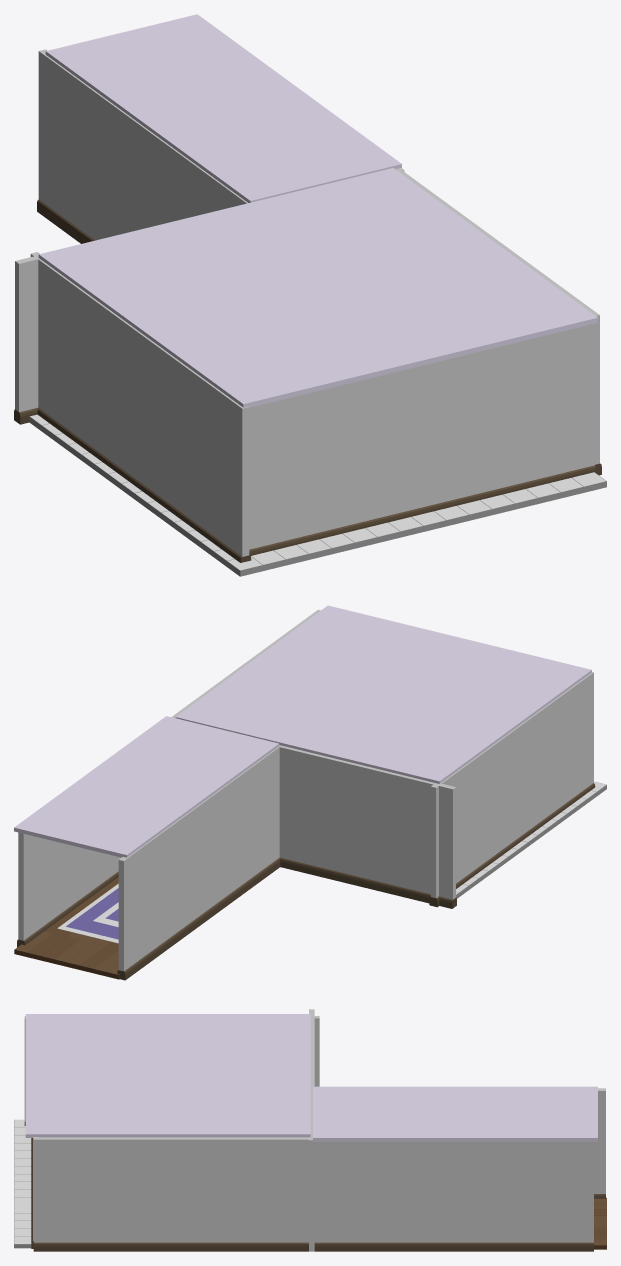
File: level03.glb
3 views of the same model, one above another, from view 1: azimuth 30°, elevation 25°; view 2: azimuth 150°, elevation 25°; view 3: azimuth 270°, elevation 25° (orthographic). The views are drawn at different scales.
Parts seen in each view (by area): view 1: Cube, WallFloor1_05, WallFloor1_05__2_, Cube__1_, WallFloor1_05__4_, Floor_08__3_, WallFloor1_05__3_, Floor_08__1_, WallFloor1_05__1_, Floor_08__2_; view 2: Cube, WallFloor1_05__3_, WallFloor1_05__4_, Cube__1_, WallFloor1_05__2_, WallFloor1_05__1_, Floor, Catpet_03, Floor_08__3_, Floor_08__2_; view 3: WallFloor1_05__1_, Cube, Cube__1_, Floor_08__1_, WallFloor1_05__4_, Floor_08__3_, WallFloor2_08, Floor, WallFloor1_05__2_, WallFloor1_05__3_, WallFloor1_05.
Boxes of the visible parts, left/top/right/bottom form: Cube: left=38, top=168, right=597, bottom=407; WallFloor1_05: left=249, top=323, right=595, bottom=555; WallFloor1_05__2_: left=30, top=252, right=251, bottom=562; Cube__1_: left=45, top=14, right=401, bottom=202; WallFloor1_05__4_: left=37, top=49, right=248, bottom=243; Floor_08__3_: left=134, top=491, right=423, bottom=576; WallFloor1_05__3_: left=14, top=255, right=39, bottom=424; Floor_08__1_: left=411, top=472, right=606, bottom=531; WallFloor1_05__1_: left=395, top=168, right=601, bottom=475; Floor_08__2_: left=29, top=414, right=141, bottom=498; Cube: left=175, top=605, right=591, bottom=783; WallFloor1_05__3_: left=279, top=745, right=456, bottom=908; WallFloor1_05__4_: left=117, top=747, right=280, bottom=980; Cube__1_: left=14, top=716, right=279, bottom=857; WallFloor1_05__2_: left=429, top=672, right=595, bottom=907; WallFloor1_05__1_: left=17, top=610, right=320, bottom=947; Floor: left=14, top=877, right=119, bottom=979; Catpet_03: left=57, top=883, right=118, bottom=943; Floor_08__3_: left=522, top=781, right=606, bottom=846; Floor_08__2_: left=456, top=841, right=527, bottom=898; WallFloor1_05__1_: left=33, top=1137, right=593, bottom=1251; Cube: left=25, top=1014, right=310, bottom=1137; Cube__1_: left=313, top=1086, right=597, bottom=1141; Floor_08__1_: left=14, top=1182, right=31, bottom=1248; WallFloor1_05__4_: left=311, top=1088, right=605, bottom=1198; Floor_08__3_: left=14, top=1119, right=31, bottom=1181; WallFloor2_08: left=307, top=1090, right=314, bottom=1251; Floor: left=594, top=1197, right=606, bottom=1249; WallFloor1_05__2_: left=24, top=1016, right=319, bottom=1125; WallFloor1_05__3_: left=309, top=1009, right=314, bottom=1089; WallFloor1_05: left=31, top=1137, right=38, bottom=1248.
Size of the model in its own units: 7.89 by 3.2 by 15.09.
2 materials, 1 textured.
